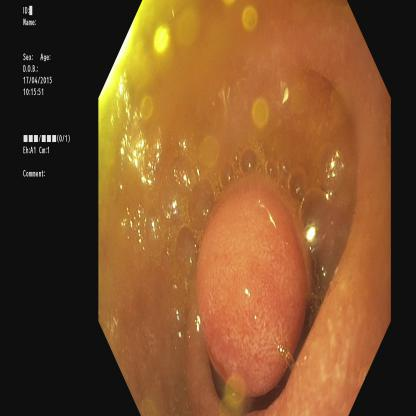Labels: (21, 0, 80, 190)
Polyps: (195, 196, 303, 381)
